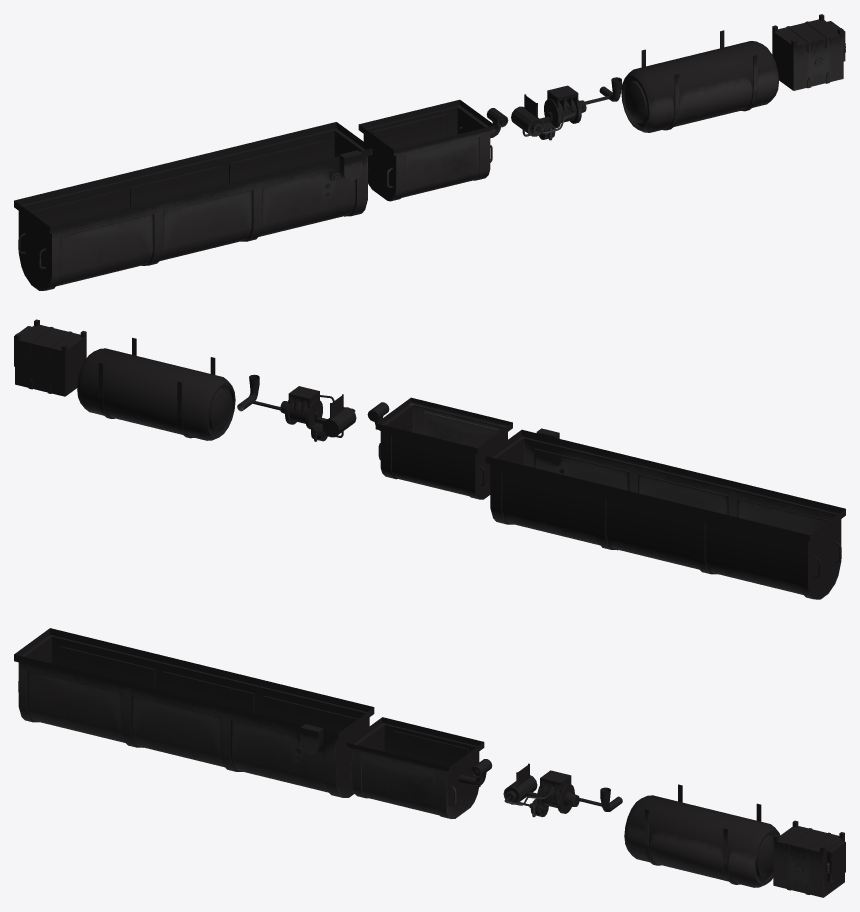
Rendered from SM_Below2.fbx.
3 views of the same model, one above another, from view 1: azimuth 30°, elevation 25°; view 2: azimuth 150°, elevation 25°; view 3: azimuth 330°, elevation 25° (orthographic).
Visible parts, largest first — view 1: SM_Below2; view 2: SM_Below2; view 3: SM_Below2.
Part boxes in pixels (x1,y1,x2,y2): SM_Below2: [14, 14, 845, 290]; SM_Below2: [14, 319, 845, 599]; SM_Below2: [14, 628, 845, 897].
Bounding box in the file's own units: 1272 × 115 × 115.
Materials: 1 (1 with a texture image).
